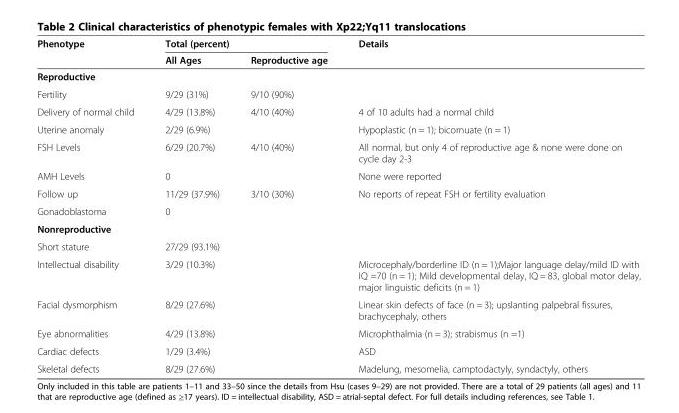table: (36, 37, 639, 374)
table column: (342, 37, 639, 374), (36, 37, 148, 374), (234, 37, 342, 374), (148, 37, 234, 374)
table column header: (36, 37, 639, 67)
table projected row header: (36, 67, 639, 85), (36, 219, 639, 237)
table row: (36, 255, 639, 295), (36, 137, 639, 166), (36, 295, 639, 324), (36, 67, 639, 85), (36, 102, 639, 120), (36, 166, 639, 184), (36, 184, 639, 202), (36, 219, 639, 237), (36, 237, 639, 255), (36, 324, 639, 342), (36, 85, 639, 102), (36, 120, 639, 137), (36, 202, 639, 219), (36, 342, 639, 359), (36, 51, 639, 67), (36, 359, 639, 374), (36, 37, 639, 51)
table spanning cell: (342, 37, 639, 67), (36, 37, 148, 67), (148, 37, 342, 51)
